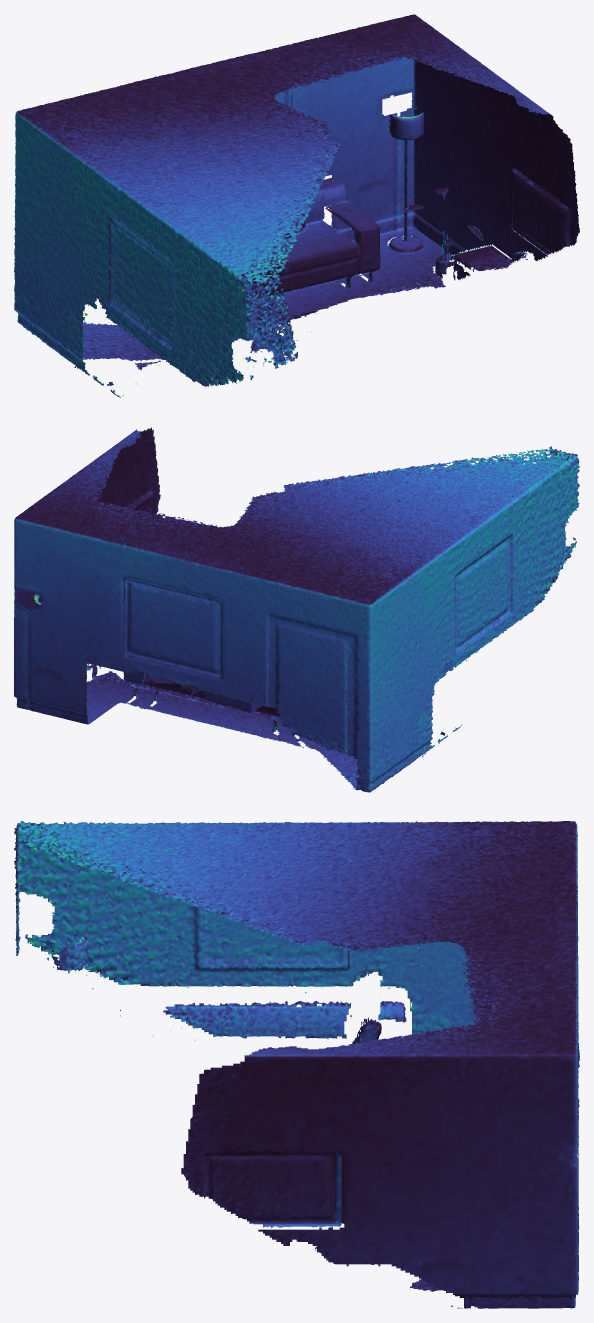
The model's file is tsdf_gt_error.glb.
3 renders of one model, top to bottom at view 1: azimuth 30°, elevation 25°; view 2: azimuth 150°, elevation 25°; view 3: azimuth 270°, elevation 25°, orthographic. The views are drawn at different scales.
Size of the model in its own units: 4.95 by 2.52 by 5.
